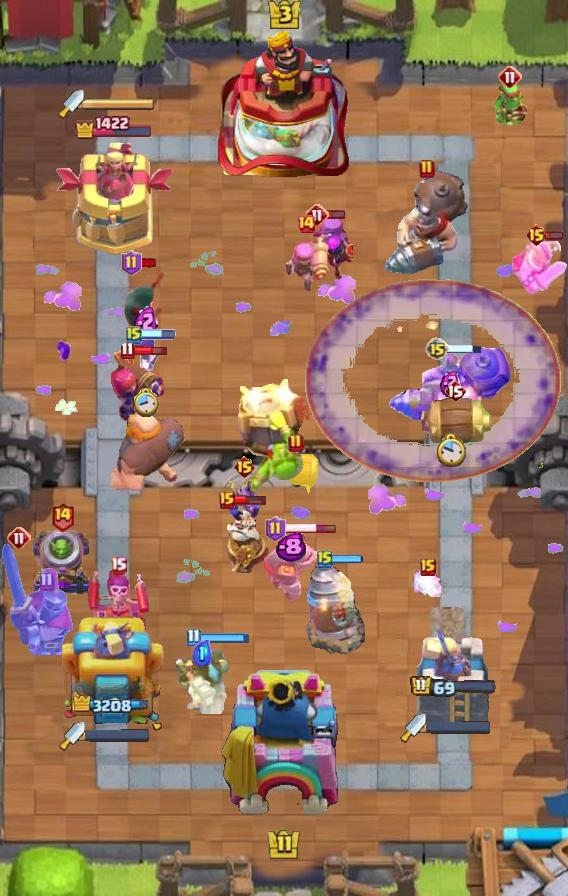balloon: (108, 409, 188, 497)
bar: (54, 142, 173, 256), (62, 611, 166, 731), (414, 623, 492, 731)
electro-spirit: (274, 532, 305, 563), (134, 303, 158, 341), (440, 369, 460, 397), (193, 640, 212, 666)
elixir: (434, 431, 465, 469), (133, 388, 159, 418)
elixir-collector: (205, 504, 273, 578)
elixir-golem-small: (262, 529, 318, 601)
emote: (198, 632, 250, 644), (283, 523, 337, 534), (133, 343, 168, 357), (233, 494, 267, 506), (140, 329, 176, 340), (446, 343, 481, 354), (330, 554, 364, 564), (138, 257, 157, 269), (544, 231, 564, 242), (326, 208, 345, 219)
fisherman: (430, 607, 468, 657)
giant-snowball: (493, 82, 527, 128)
goblin: (130, 334, 162, 374)
goblin-cage: (30, 527, 94, 597)
goblin-giant: (508, 240, 568, 296)
ice-spirit-evolution: (411, 568, 445, 600)
inferno-dragon: (173, 638, 231, 714)
king-tower: (218, 27, 350, 181), (219, 670, 349, 826)
king-tower-bar: (84, 97, 156, 111), (426, 721, 490, 735), (85, 730, 149, 743)
knight: (271, 453, 321, 495)
magic-archer: (305, 563, 365, 655)
mega-minion: (110, 349, 168, 423)
rascal-girl: (311, 215, 353, 281)
rocket: (305, 279, 561, 483)
royal-delivery: (226, 481, 262, 523)
selected: (411, 675, 498, 699), (74, 115, 154, 140), (73, 695, 155, 717)
skeleton-king-bar: (87, 568, 149, 654)
tesla: (120, 268, 170, 332)
text: (50, 501, 75, 532), (498, 65, 522, 89), (305, 203, 329, 227), (425, 337, 449, 361), (7, 526, 31, 550), (525, 223, 548, 247), (232, 455, 255, 479), (121, 250, 142, 276), (265, 516, 286, 542), (444, 379, 466, 403), (296, 214, 316, 234), (109, 556, 126, 575), (419, 159, 435, 179), (126, 325, 142, 345), (288, 433, 304, 453), (317, 549, 333, 569), (219, 491, 235, 509), (420, 558, 436, 576), (186, 629, 201, 648), (121, 341, 135, 359)
the-log: (417, 398, 493, 448)
tombstone: (282, 235, 329, 293)
wall-breaker-evolution: (0, 542, 74, 662)
wizard: (388, 346, 512, 424), (383, 169, 471, 277)
x-bow: (232, 376, 312, 502)
